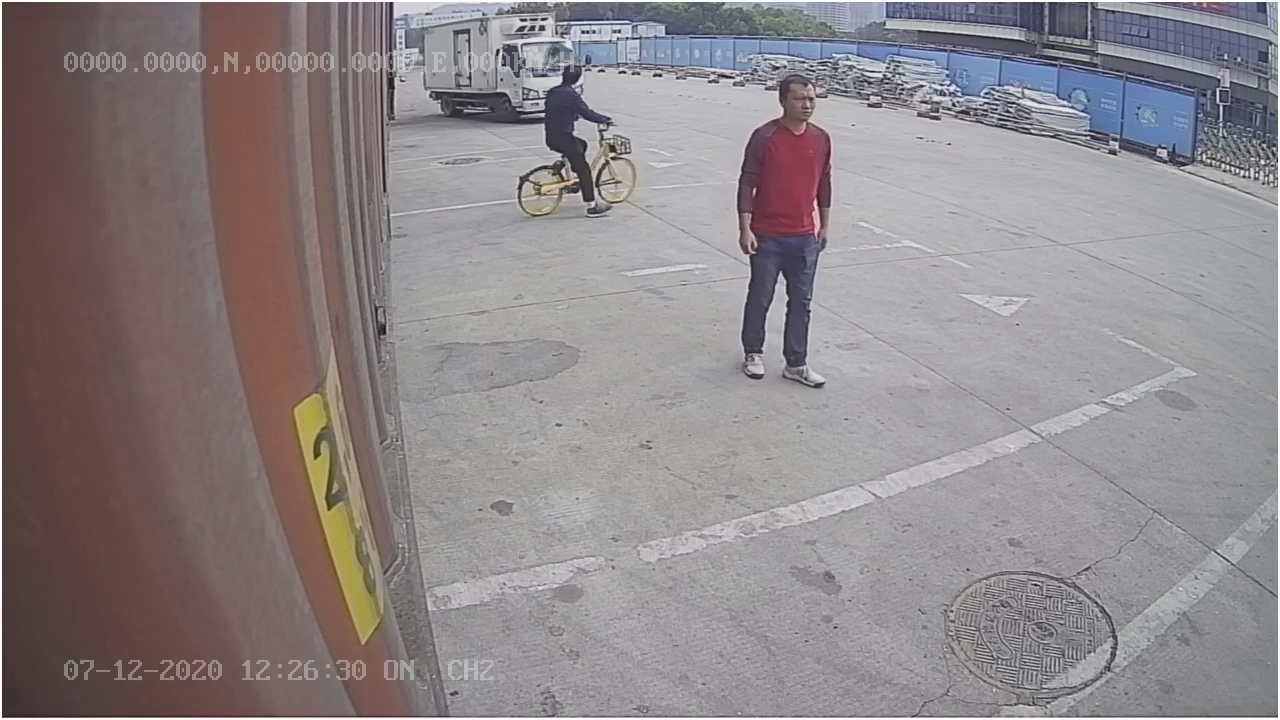person: (731, 69, 840, 395)
